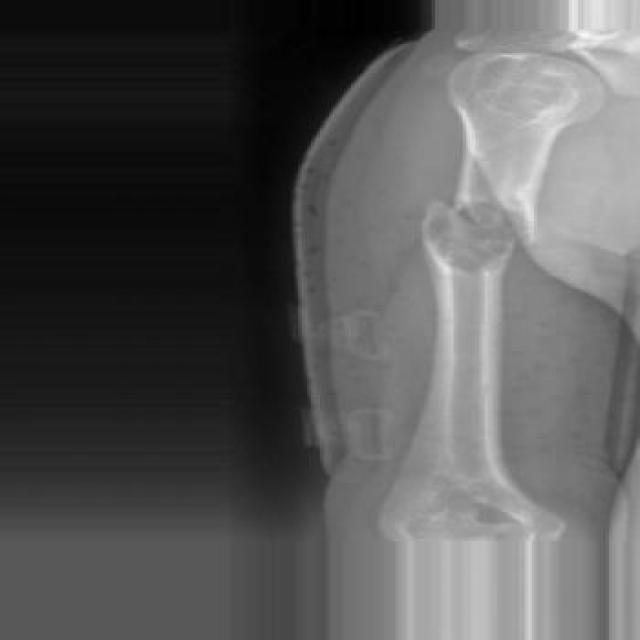Fracture: (378, 190, 562, 274)
